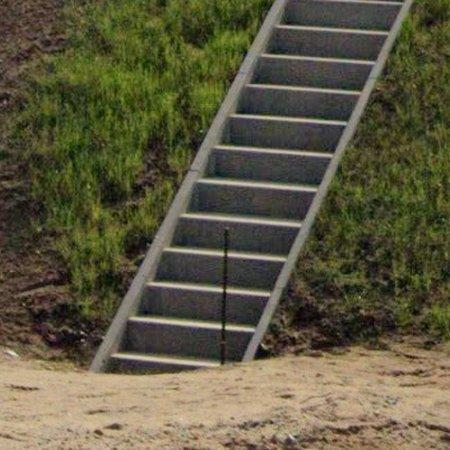stairs: (91, 0, 413, 373)
